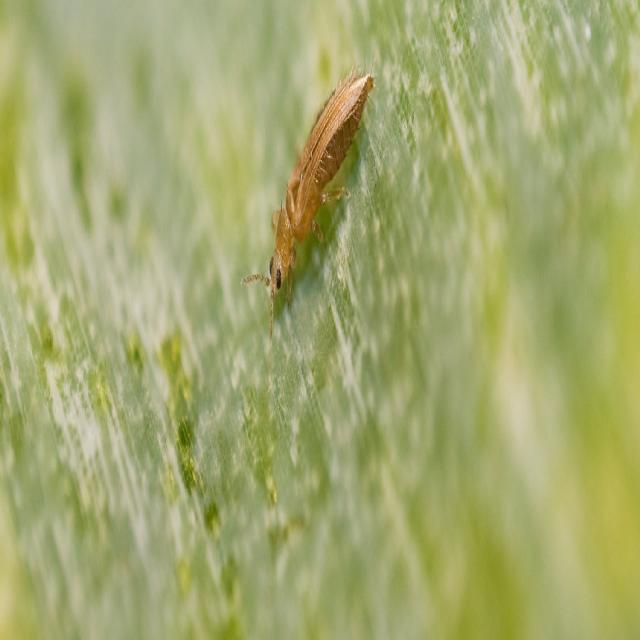Thrip-Adult-: (250, 55, 378, 322)
